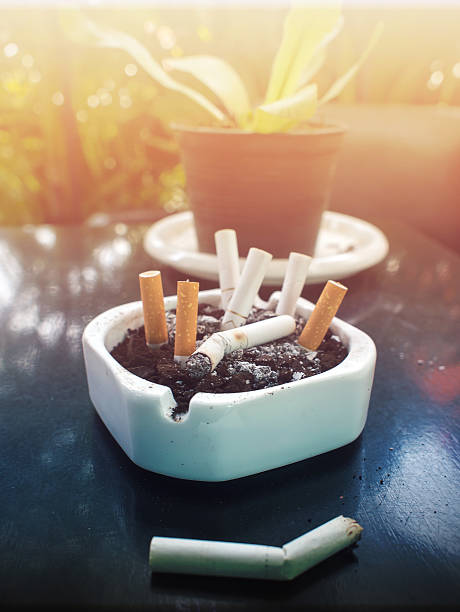cigarette: (148, 514, 362, 581), (186, 313, 298, 378), (293, 277, 351, 359), (219, 245, 272, 329), (136, 270, 170, 352), (276, 248, 313, 316), (172, 277, 201, 363), (213, 228, 240, 309)
